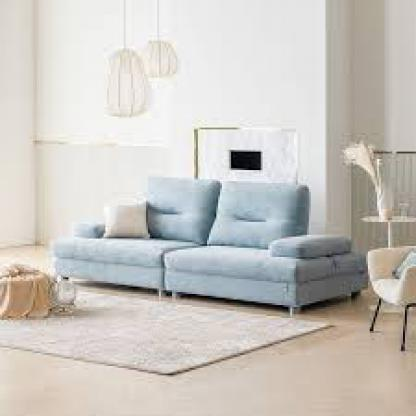sofa: (41, 172, 358, 316)
